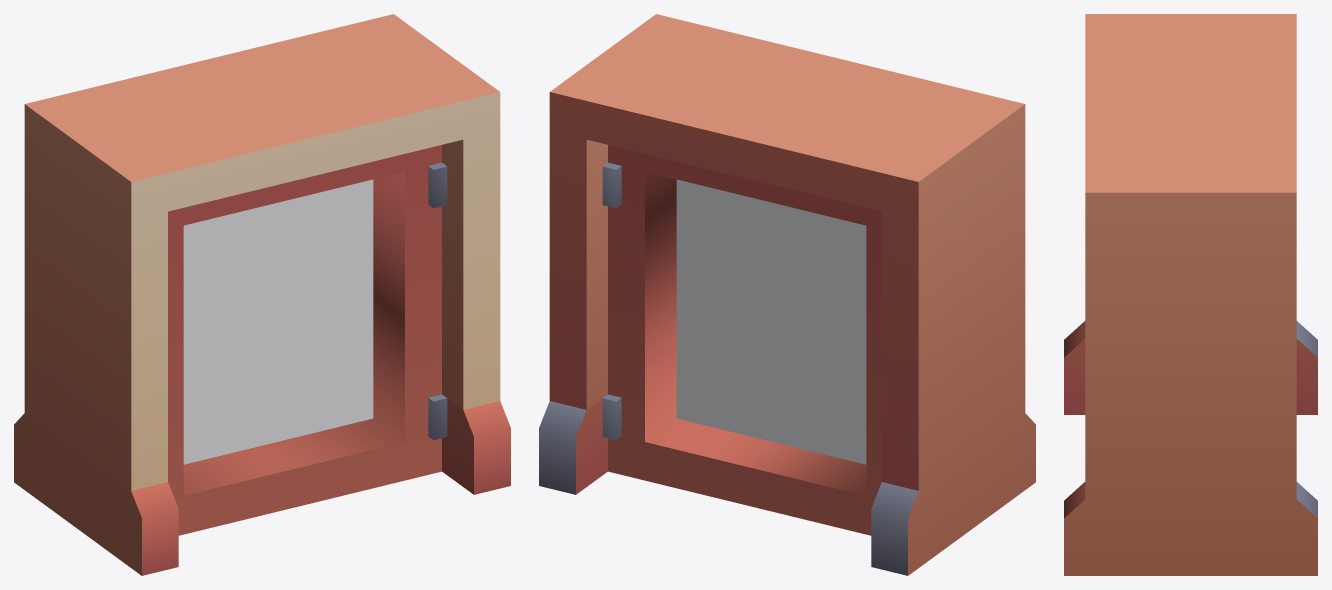
File: wall-window.obj
3 renders of one model, left to right at view 1: azimuth 30°, elevation 25°; view 2: azimuth 150°, elevation 25°; view 3: azimuth 270°, elevation 25°, orthographic.
Visible parts, largest first — view 1: wall-window, (%ignore); view 2: wall-window, (%ignore); view 3: wall-window.
Boxes of the visible parts, x1,y1,x2,y2 form: wall-window: (14,14,510,575); (%ignore): (183,179,373,464); wall-window: (539,14,1035,575); (%ignore): (676,179,866,464); wall-window: (1064,14,1317,575).
Bounding box in the file's own units: 1 × 1 × 0.6.
